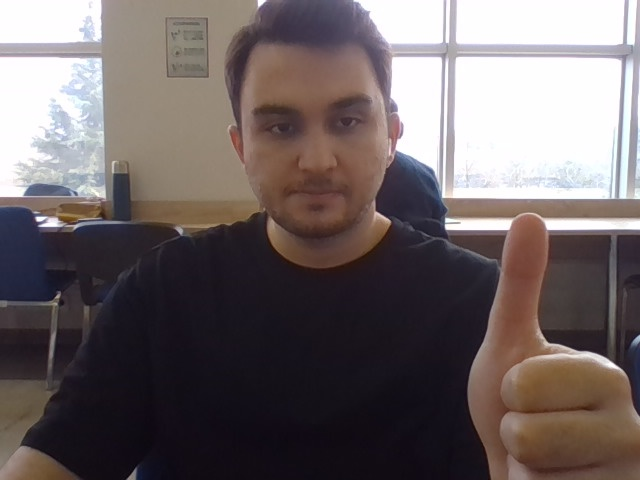thumbsup: (466, 213, 640, 480)
